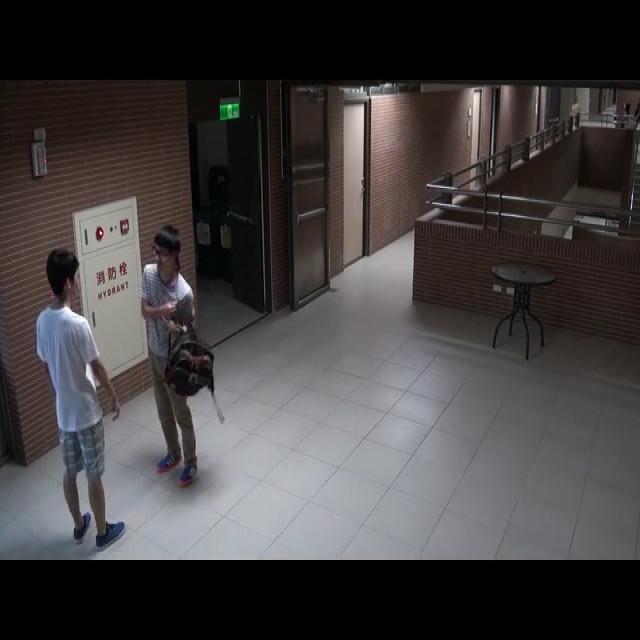abandoned-object: (158, 320, 225, 404)
